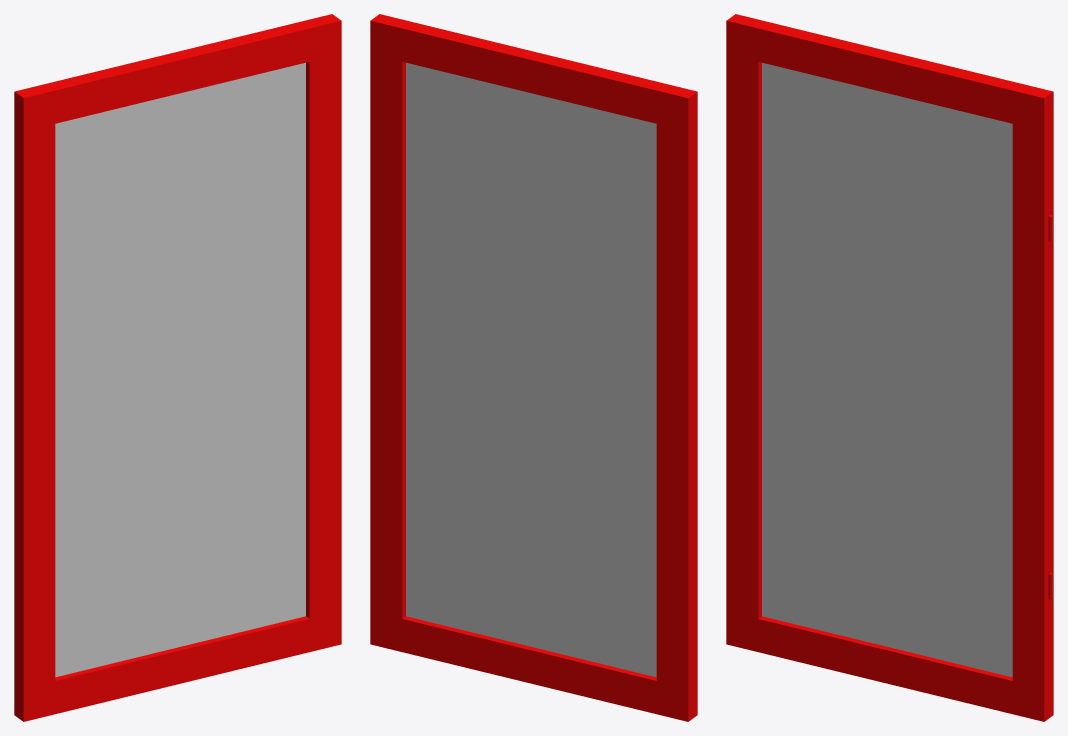
The model's file is PuertaExtintor.fbx.
The picture shows the model from 3 angles, left to right: view 1: azimuth 30°, elevation 25°; view 2: azimuth 150°, elevation 25°; view 3: azimuth 330°, elevation 25°; orthographic projection.
Visible parts, largest first — view 1: PuertaExtintor; view 2: PuertaExtintor; view 3: PuertaExtintor.
Boxes of the visible parts, x1,y1,x2,y2 form: PuertaExtintor: (14, 14, 341, 721); PuertaExtintor: (370, 14, 697, 721); PuertaExtintor: (726, 14, 1053, 721).
Bounding box in the file's own units: 40.5 × 75 × 2.
